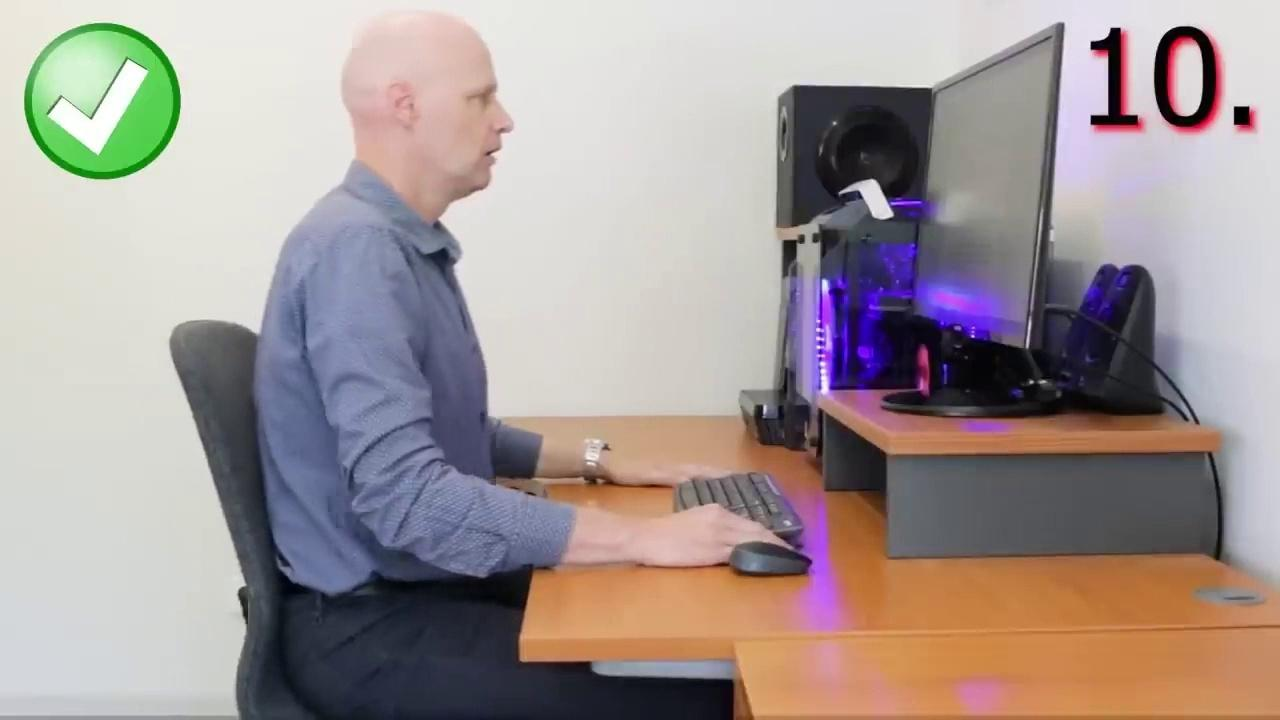GoodPosture: (255, 11, 784, 703)
